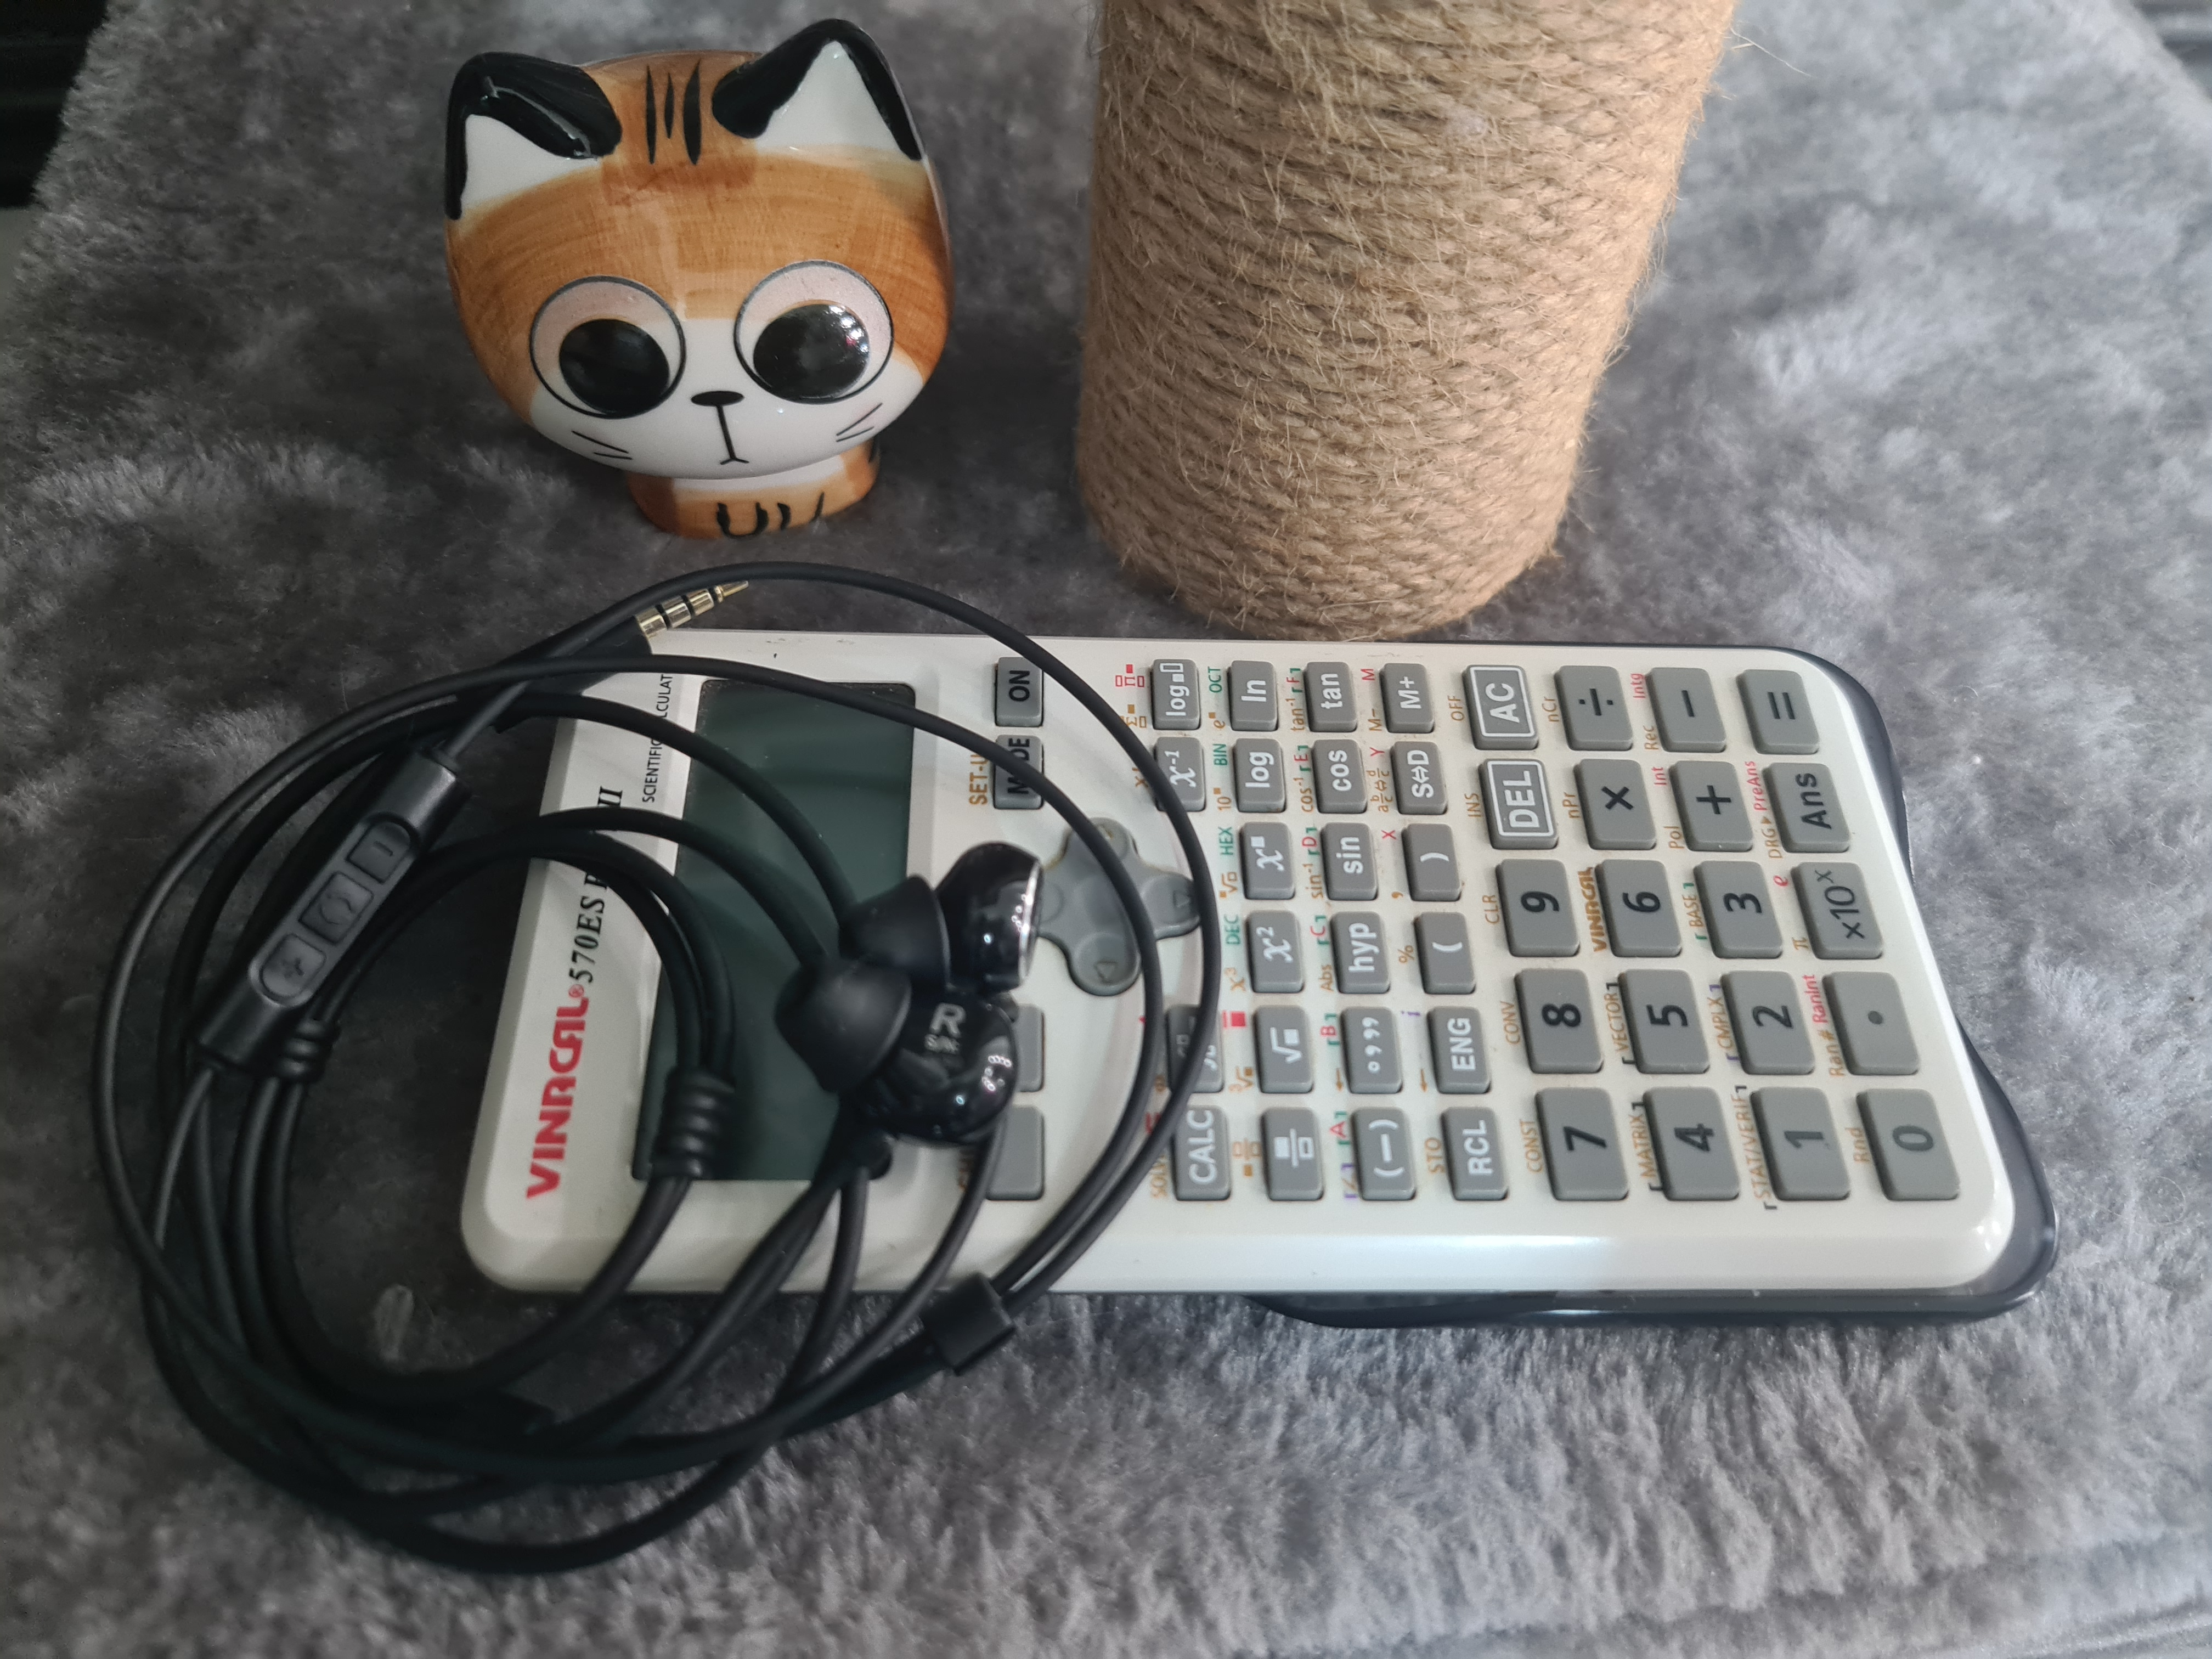calculator: (462, 626, 2062, 1330)
cat: (444, 19, 956, 540)
